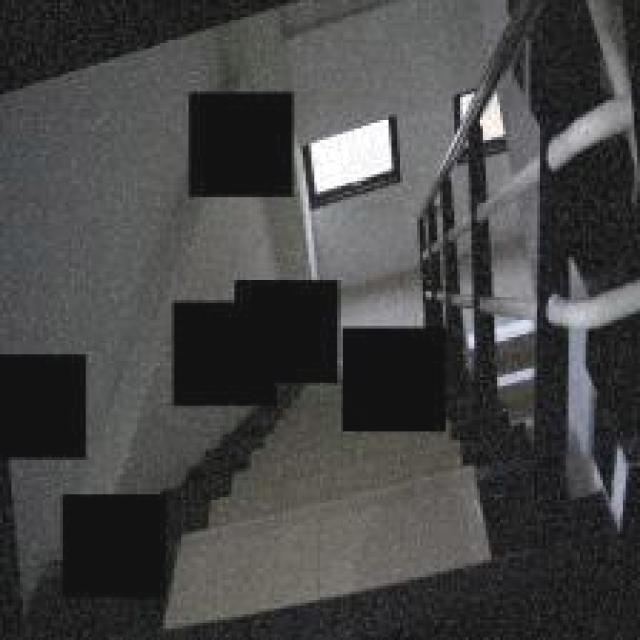downstair: (212, 461, 541, 640)
